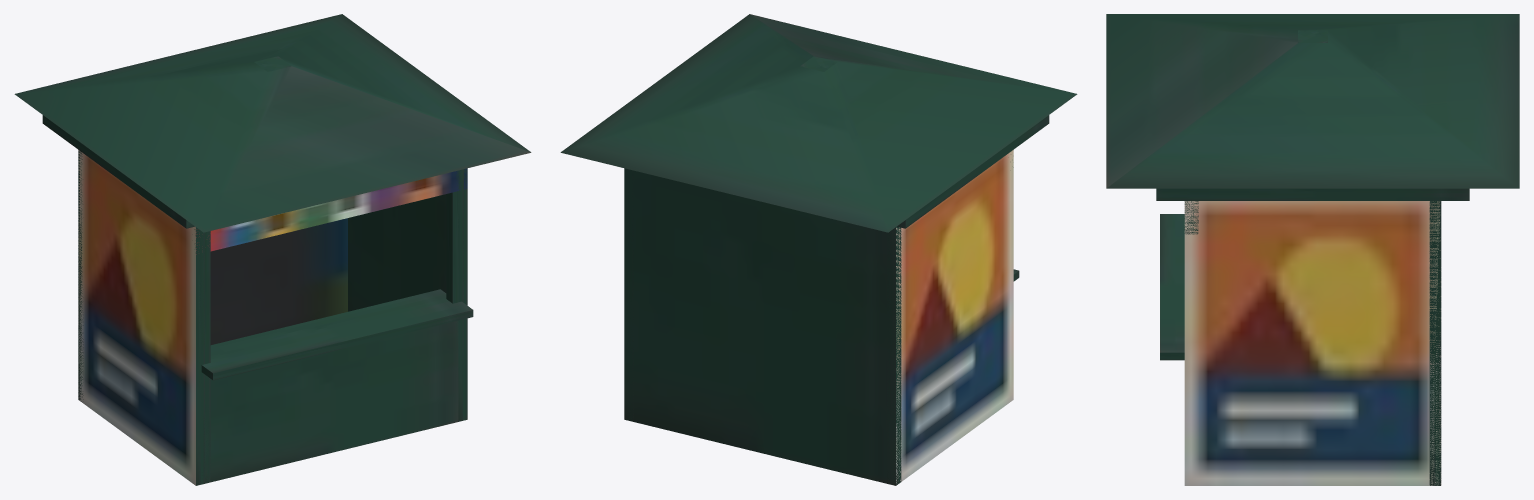
File: kiosque_journaux_lod2.glb
The picture shows the model from 3 angles, left to right: view 1: azimuth 30°, elevation 25°; view 2: azimuth 150°, elevation 25°; view 3: azimuth 270°, elevation 25°; orthographic projection. The views are drawn at different scales.
Parts seen in each view (by area): view 1: kiosque_journaux; view 2: kiosque_journaux; view 3: kiosque_journaux.
Boxes of the visible parts, box(x1,y1,x2,y2) form: kiosque_journaux: box(14, 14, 531, 485); kiosque_journaux: box(560, 14, 1077, 485); kiosque_journaux: box(1106, 14, 1519, 485).
Bounding box in the file's own units: 2.9 × 2.92 × 2.9.
Materials: 1 (1 with a texture image).
